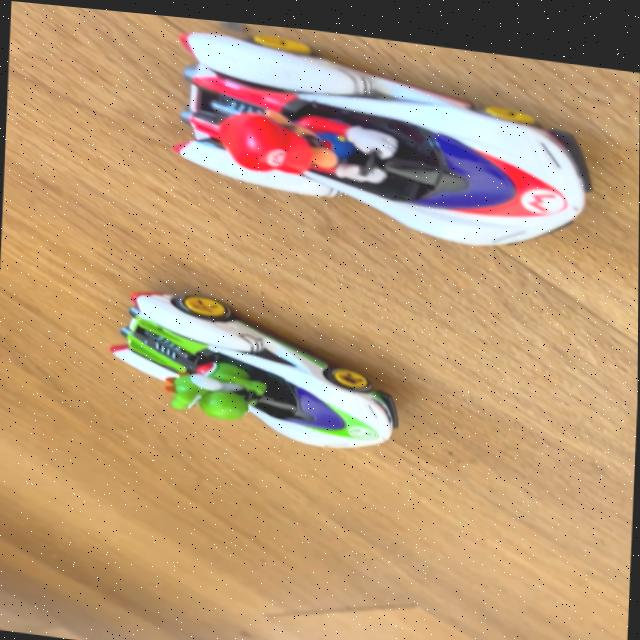mario: (158, 13, 618, 261)
yoshi: (126, 289, 419, 462)
